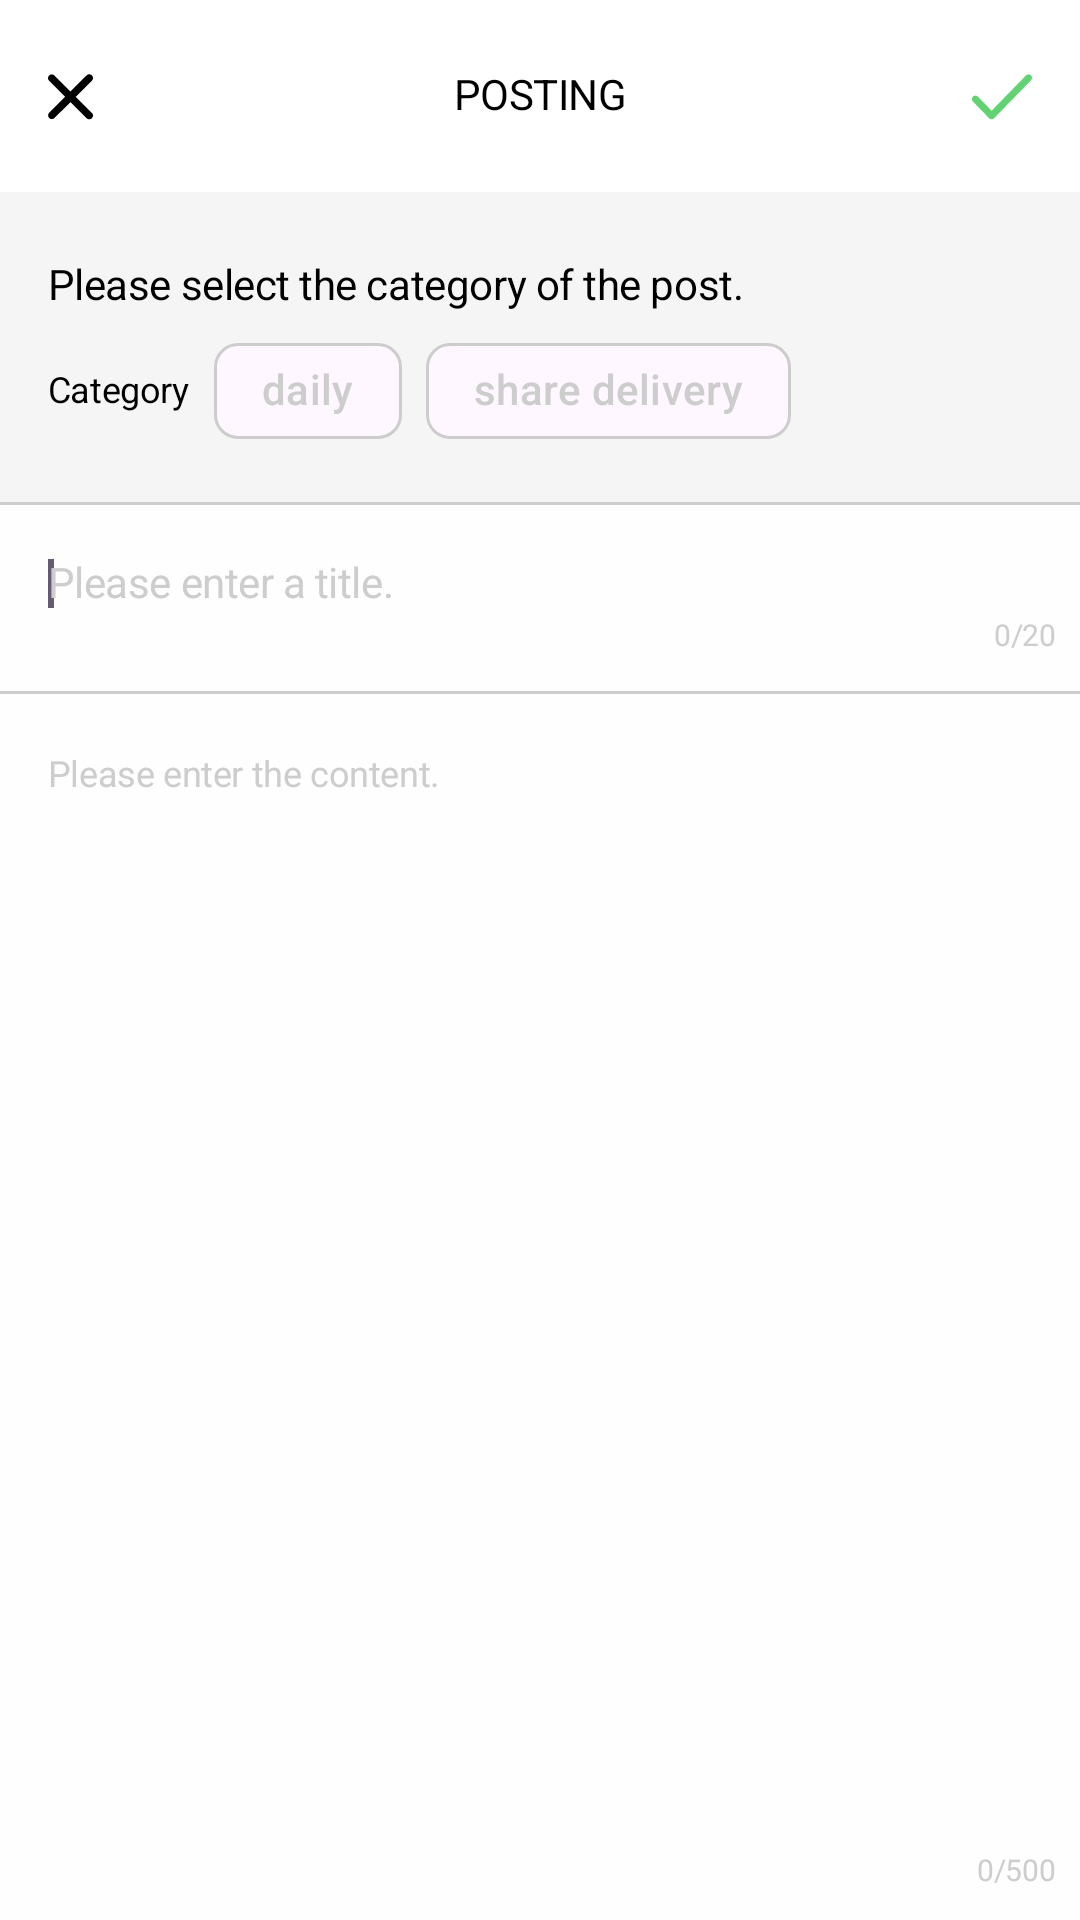

Icon click points for this 1080x1920 phone screenshot, format point (x, y):
community posting cancel: point (70, 97)
community posting complete: point (1002, 97)
